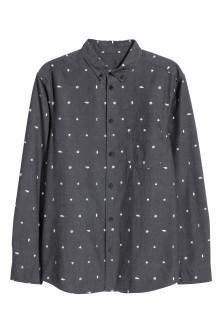teeshirt: (9, 36, 214, 295)
